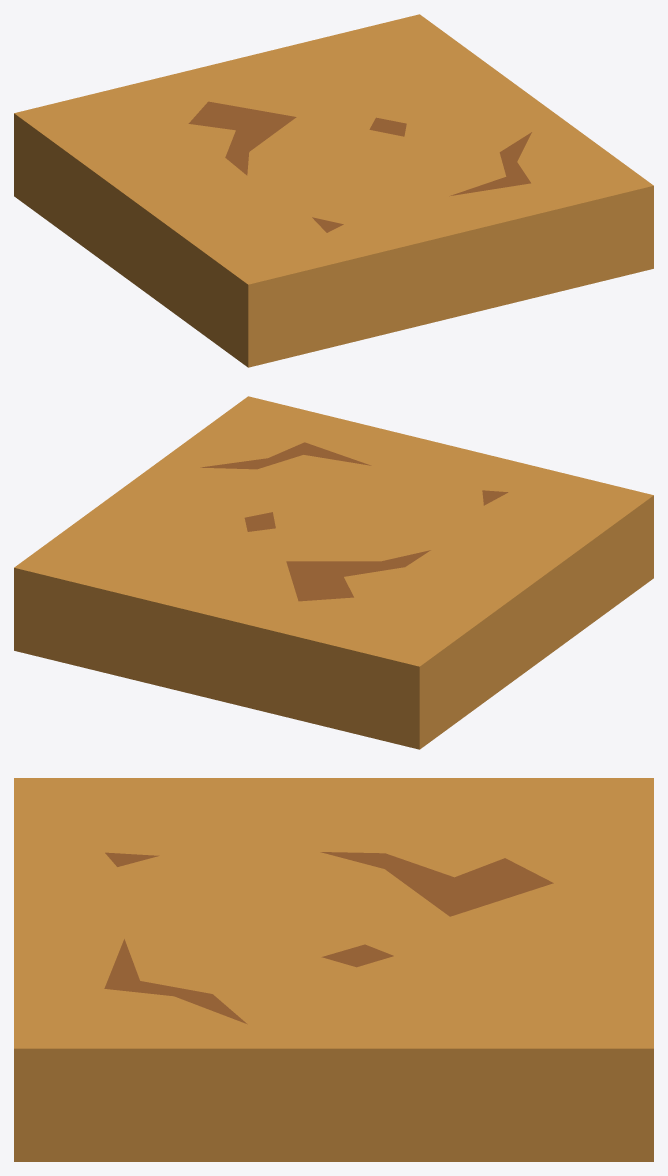
Rendered from Ground_4_4.obj.
3 views of the same model, one above another, from view 1: azimuth 30°, elevation 25°; view 2: azimuth 150°, elevation 25°; view 3: azimuth 270°, elevation 25° (orthographic). The views are drawn at different scales.
Parts seen in each view (by area): view 1: Ground_4_4; view 2: Ground_4_4; view 3: Ground_4_4.
Part boxes in pixels (bbox=[...]): Ground_4_4: bbox=[14, 14, 653, 367]; Ground_4_4: bbox=[14, 396, 653, 749]; Ground_4_4: bbox=[14, 778, 653, 1161].
Bounding box in the file's own units: 2 × 0.3912 × 2.
